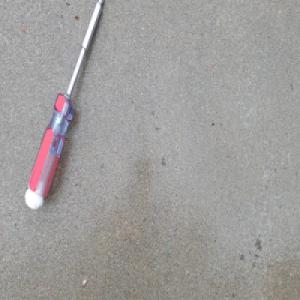Screwdriver: (23, 0, 103, 211)
